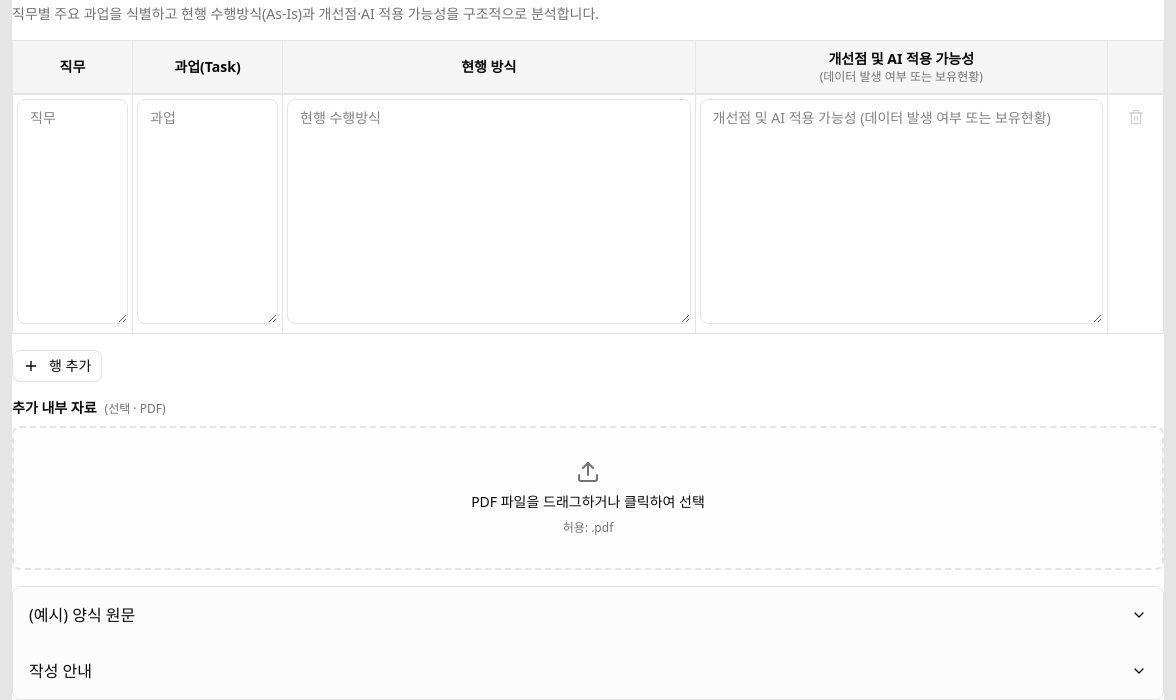
it: StepTaskAnalysis › 작성 안내에 정본 원문(□·※)을 그대로 표시한다
Click the button "작성 안내" at {"x": 61, "y": 671}, box [29,643,1147,699]
(page scrolled)
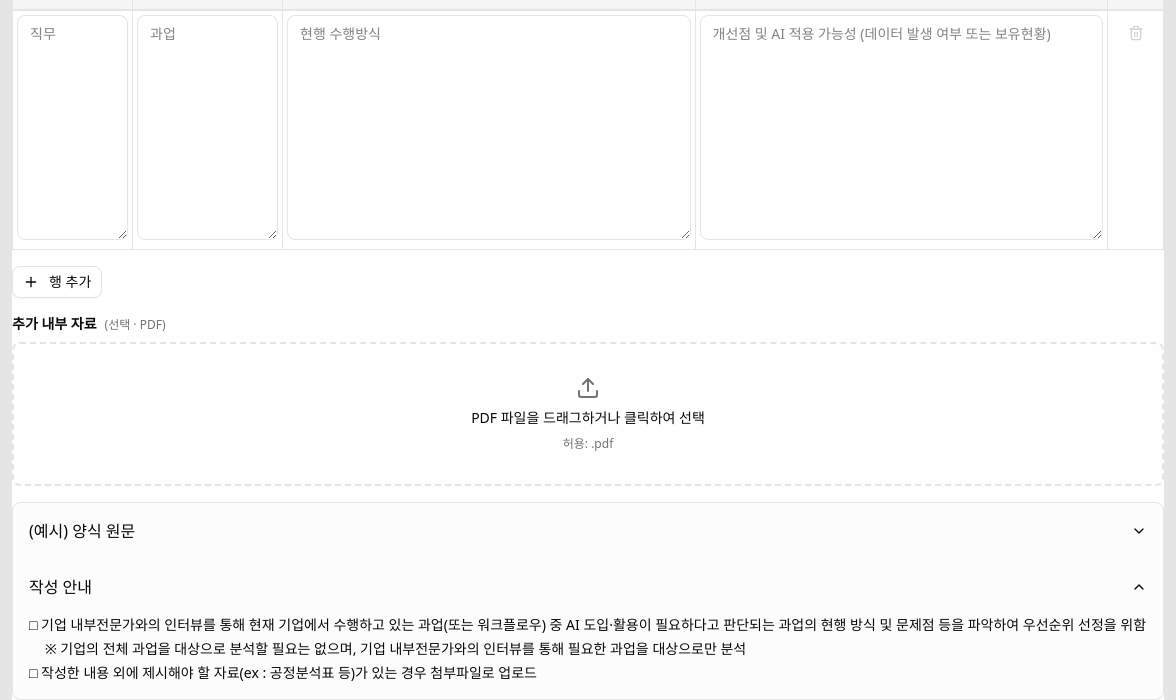
Check: the list item "□ 기업 내부전문가와의 인터뷰를 통해 현재 기업에서 수행하고 있는 과업(또는 워크플로우) 중 AI 도입·활용이 필요하다고 판단되는 과업의 현행 방식 및 문제점 등을 파악하여 우선순위 선정을 위함" is shown, box [29,615,1146,634]
Check: the list item "※ 기업의 전체 과업을 대상으로 분석할 필요는 없으며, 기업 내부전문가와의 인터뷰를 통해 필요한 과업을 대상으로만 분석" is shown, box [45,639,746,658]
Check: the list item "□ 작성한 내용 외에 제시해야 할 자료(ex : 공정분석표 등)가 있는 경우 첨부파일로 업로드" is shown, box [29,663,537,682]
